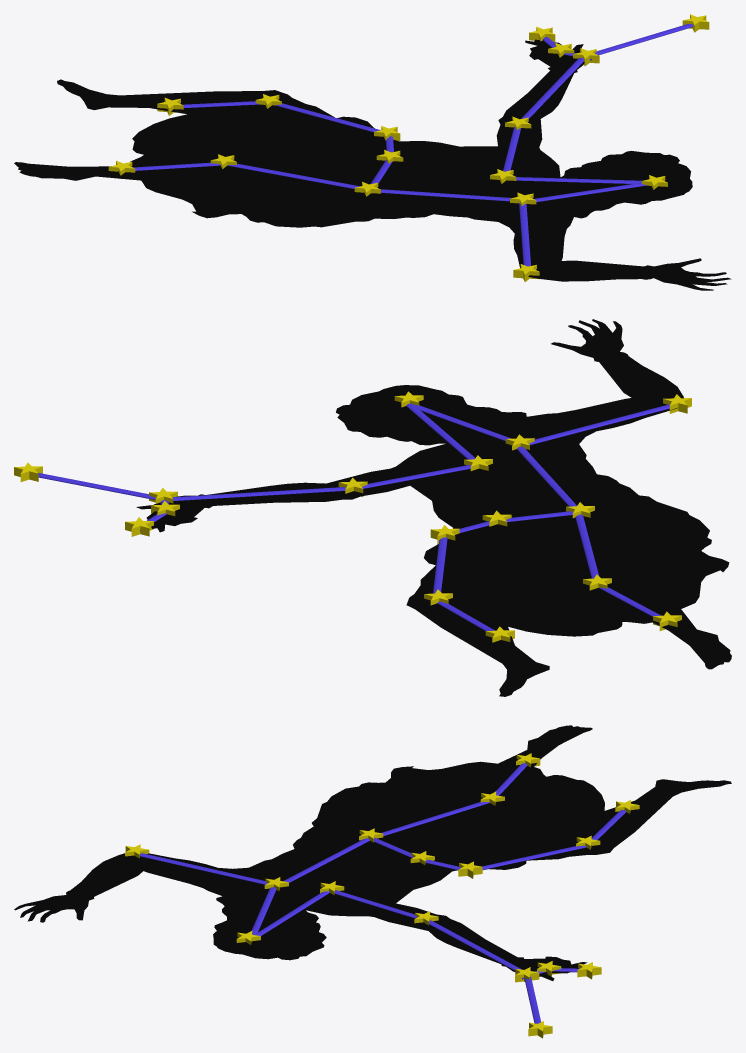
Rendered from Andromeda-za.glb.
3 renders of one model, top to bottom at view 1: azimuth 30°, elevation 25°; view 2: azimuth 150°, elevation 25°; view 3: azimuth 270°, elevation 25°, orthographic. The views are drawn at different scales.
Visible parts, largest first — view 1: 円, 円柱.010, 円柱.009, 円柱.004, 円柱.006, 円柱.003, 円柱.008, 円柱.007, 円柱.014; view 2: 円, 円柱.004, 円柱.008, 円柱.003; view 3: 円, 円柱.008, 円柱.004.
Part boxes in pixels (bbox=[...]): 円: bbox=[14, 39, 731, 290]; 円柱.010: bbox=[227, 163, 359, 188]; 円柱.009: bbox=[381, 189, 511, 201]; 円柱.004: bbox=[521, 57, 583, 118]; 円柱.006: bbox=[516, 177, 642, 183]; 円柱.003: bbox=[595, 24, 693, 55]; 円柱.008: bbox=[519, 203, 530, 266]; 円柱.007: bbox=[534, 182, 646, 202]; 円柱.014: bbox=[276, 103, 380, 132]; 円: bbox=[136, 319, 731, 696]; 円柱.004: bbox=[172, 487, 345, 500]; 円柱.008: bbox=[529, 404, 670, 444]; 円柱.003: bbox=[38, 472, 155, 499]; 円: bbox=[14, 725, 731, 980]; 円柱.008: bbox=[140, 853, 267, 884]; 円柱.004: bbox=[429, 920, 521, 970].
Size of the model in its own units: 82.89 by 0.8959 by 81.09.
